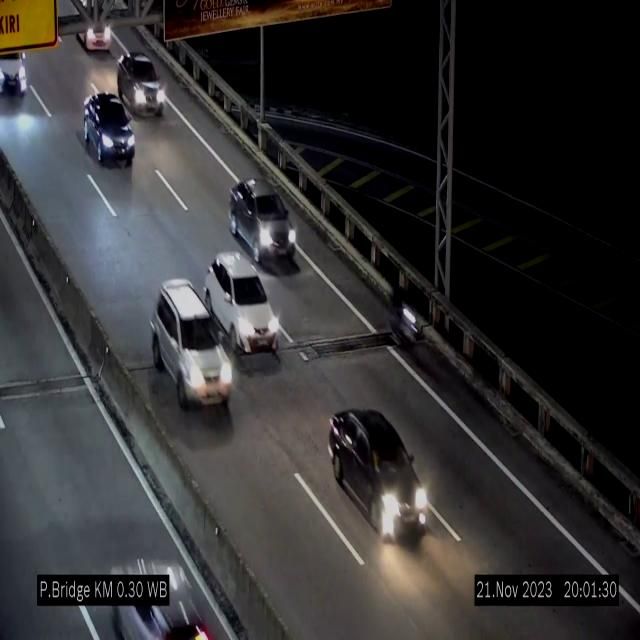Car: (328, 408, 430, 548), (151, 279, 231, 410), (110, 542, 210, 640), (204, 252, 280, 353), (230, 182, 298, 268), (83, 90, 135, 164), (117, 51, 166, 116), (0, 42, 28, 106)
Motorcycle: (394, 292, 422, 356)
